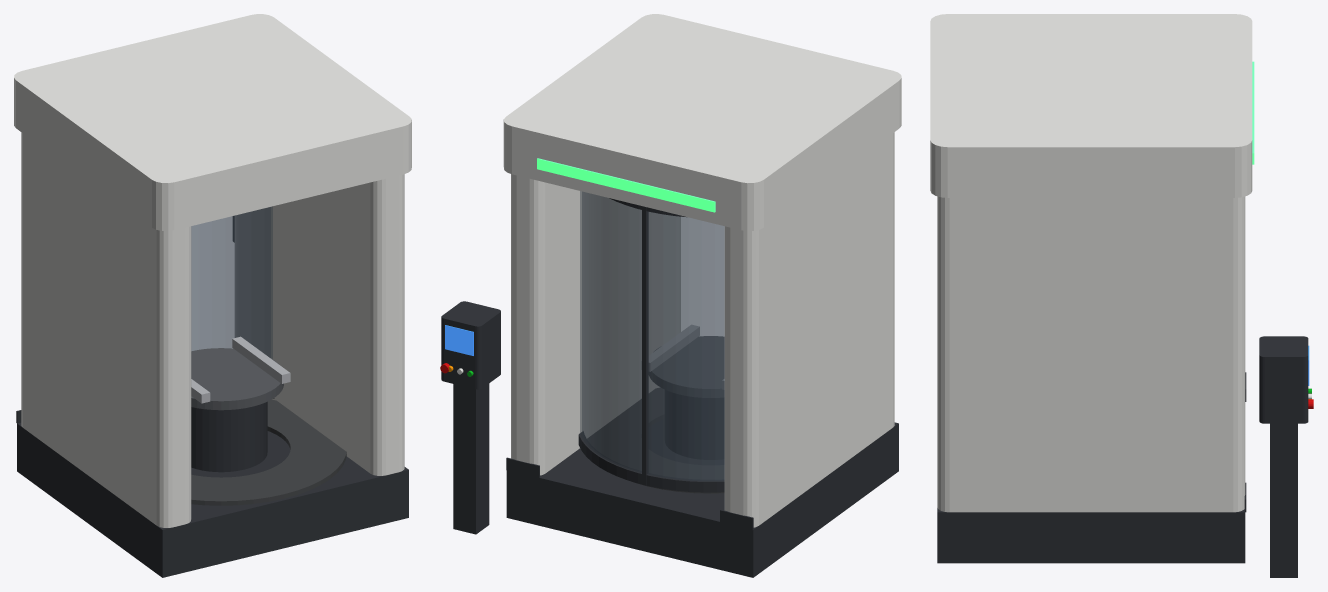
File: lu_station_cyl.glb
The picture shows the model from 3 angles, left to right: view 1: azimuth 30°, elevation 25°; view 2: azimuth 150°, elevation 25°; view 3: azimuth 270°, elevation 25°; orthographic projection. The views are drawn at different scales.
Visible parts, largest first — view 1: lu_base__evo_white, lu_base__anthracite, lu_door__glass_dark, lu_base__grating, lu_turntable__steel_dark, lu_turntable__steel; view 2: lu_base__evo_white, lu_door__glass_dark, lu_base__anthracite, lu_console__anthracite, lu_door__anthracite, lu_base__grating, lu_turntable__steel_dark, lu_base__led_green, lu_turntable__steel, lu_console__screen_on; view 3: lu_base__evo_white, lu_base__anthracite, lu_console__anthracite.
Part boxes in pixels (box(x1,y1,x2,y2)): lu_base__evo_white: box(14, 14, 411, 527); lu_base__anthracite: box(16, 401, 408, 577); lu_door__glass_dark: box(191, 206, 272, 358); lu_base__grating: box(191, 399, 346, 505); lu_turntable__steel_dark: box(191, 348, 283, 410); lu_turntable__steel: box(191, 336, 290, 403); lu_base__evo_white: box(503, 14, 901, 527); lu_door__glass_dark: box(580, 191, 724, 480); lu_base__anthracite: box(506, 390, 898, 577); lu_console__anthracite: box(441, 301, 500, 534); lu_door__anthracite: box(578, 198, 724, 492); lu_base__grating: box(587, 387, 724, 493); lu_turntable__steel_dark: box(649, 336, 724, 397); lu_base__led_green: box(537, 158, 715, 212); lu_turntable__steel: box(649, 325, 724, 389); lu_console__screen_on: box(445, 325, 473, 355); lu_base__evo_white: box(930, 14, 1252, 512); lu_base__anthracite: box(937, 372, 1246, 563); lu_console__anthracite: box(1259, 336, 1308, 577).
Bounding box in the file's own units: 2.02 × 2.64 × 2.19.
